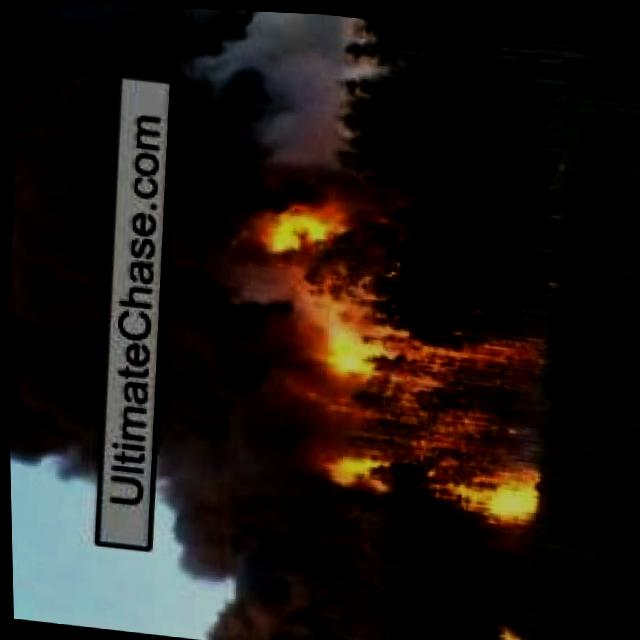Fire: (307, 319, 536, 531), (195, 172, 384, 272), (477, 611, 527, 640)
